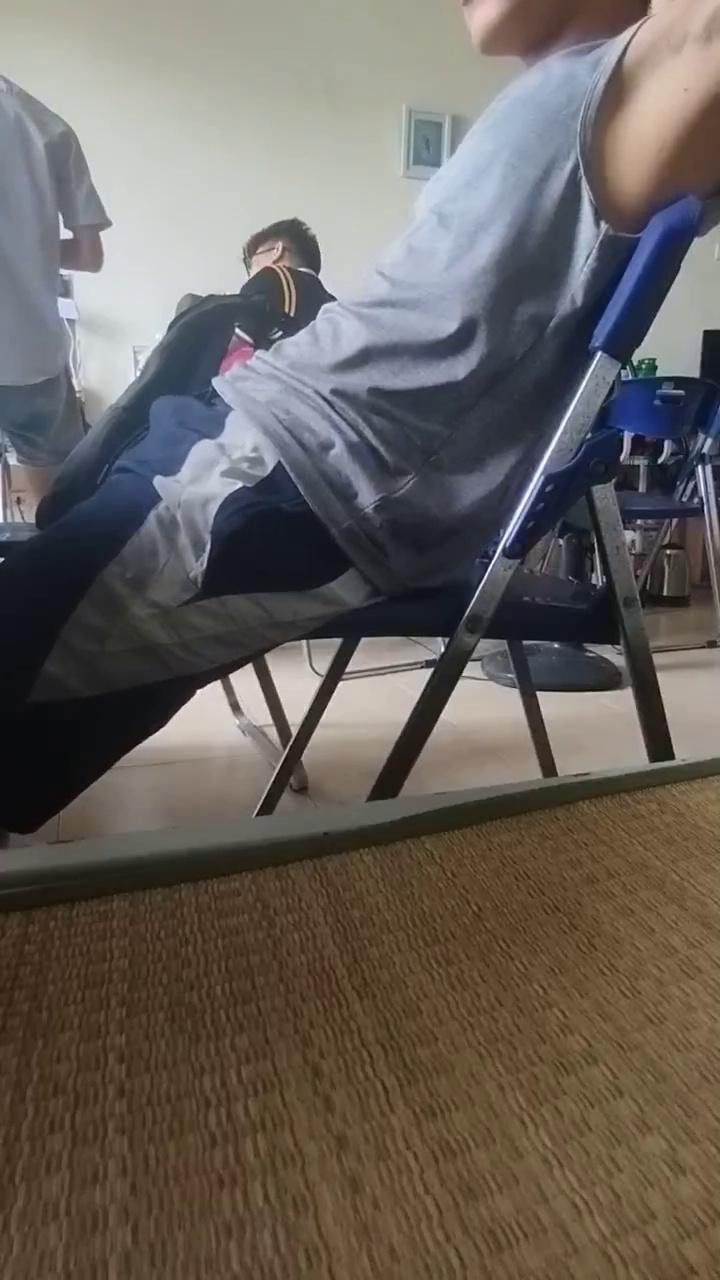BadPosture: (0, 0, 719, 837)
